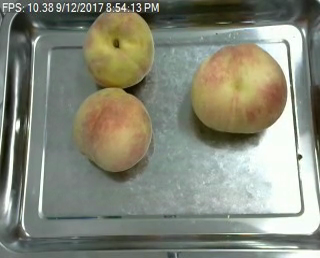Peach: (190, 42, 287, 133), (73, 85, 151, 171), (83, 7, 155, 87)
